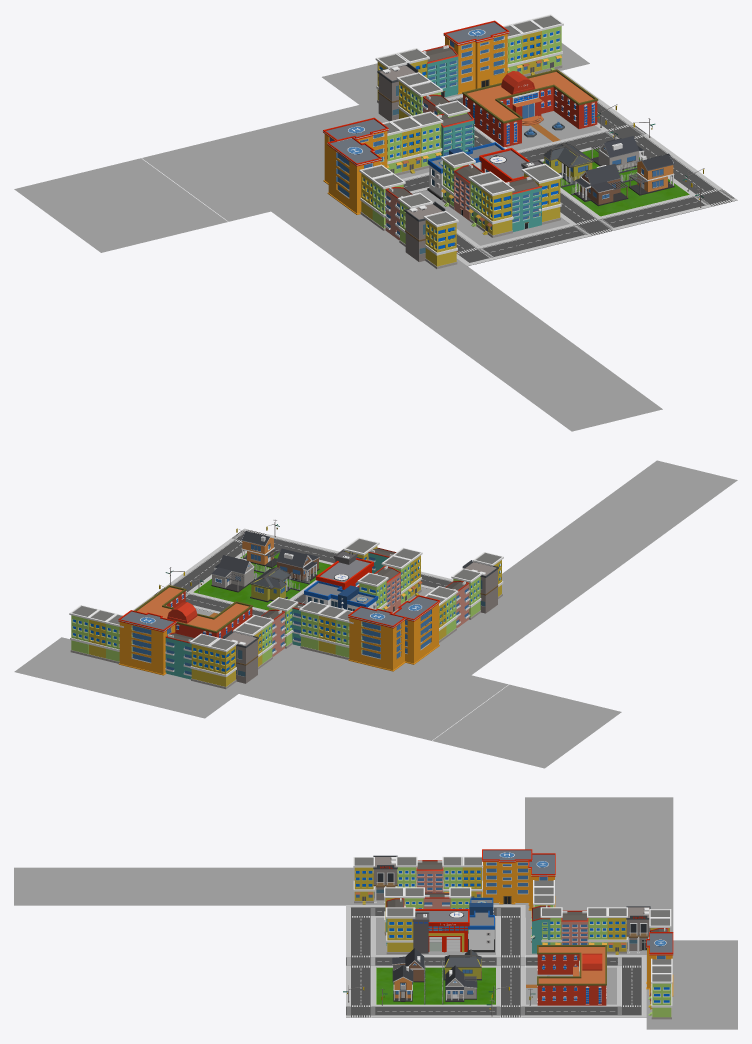
File: mapAJ1.glb
The picture shows the model from 3 angles, top to bottom: view 1: azimuth 30°, elevation 25°; view 2: azimuth 150°, elevation 25°; view 3: azimuth 270°, elevation 25°; orthographic projection. The views are drawn at different scales.
Parts seen in each view (by area): view 1: Road Lane_01.168; view 2: Road Lane_01.168; view 3: Road Lane_01.168.
Part boxes in pixels (<box>): Road Lane_01.168: <box>14,14,737,431</box>; Road Lane_01.168: <box>14,460,737,768</box>; Road Lane_01.168: <box>14,797,737,1029</box>.
Size of the model in its own units: 369 by 32.56 by 486.
184 materials, 181 textured.
